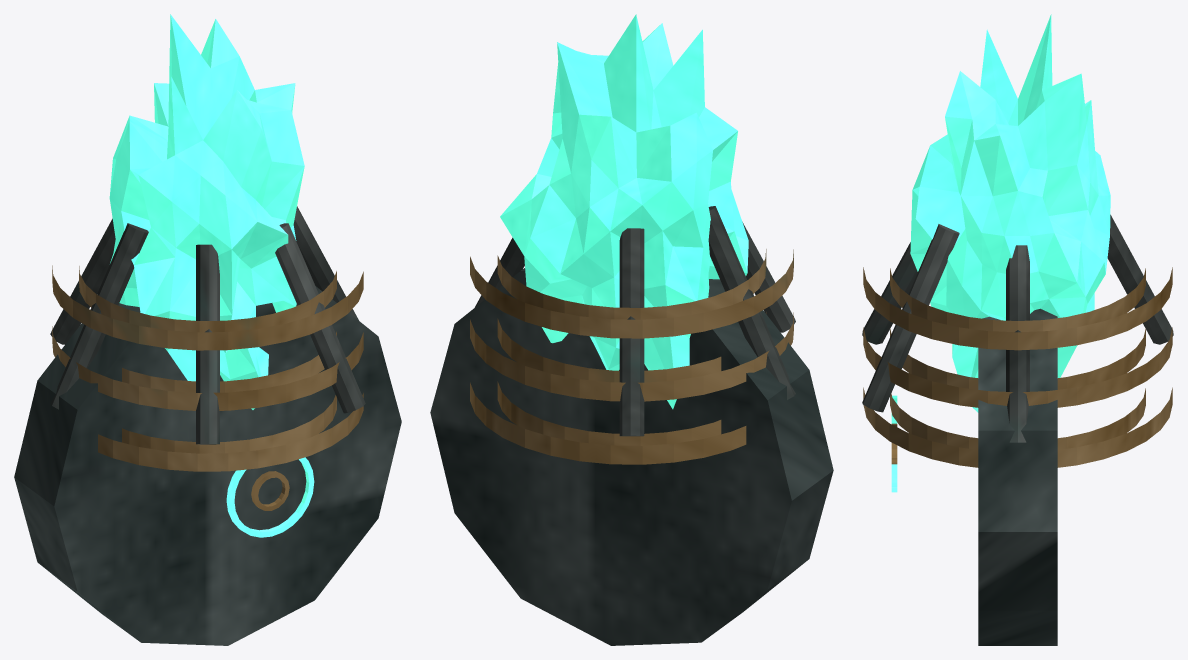
File: 0984_offering_relic_09.glb
3 renders of one model, left to right at view 1: azimuth 30°, elevation 25°; view 2: azimuth 150°, elevation 25°; view 3: azimuth 270°, elevation 25°, orthographic. The views are drawn at different scales.
Visible parts, largest first — view 1: stone_dark, glow, brass, iron; view 2: stone_dark, glow, brass, iron; view 3: glow, brass, stone_dark, iron.
Boxes of the visible parts, x1,y1,x2,y2 form: stone_dark: (14,286,401,645); glow: (109,14,314,537); brass: (52,265,363,510); iron: (50,206,365,444); stone_dark: (430,268,833,645); glow: (500,14,748,409); brass: (470,249,793,464); iron: (475,206,795,436); glow: (891,14,1110,492); brass: (863,267,1172,467); stone_dark: (978,308,1057,645); iron: (862,214,1173,442).
Bounding box in the file's own units: 0.9 × 1.51 × 0.7056.
4 materials, 4 textured.
